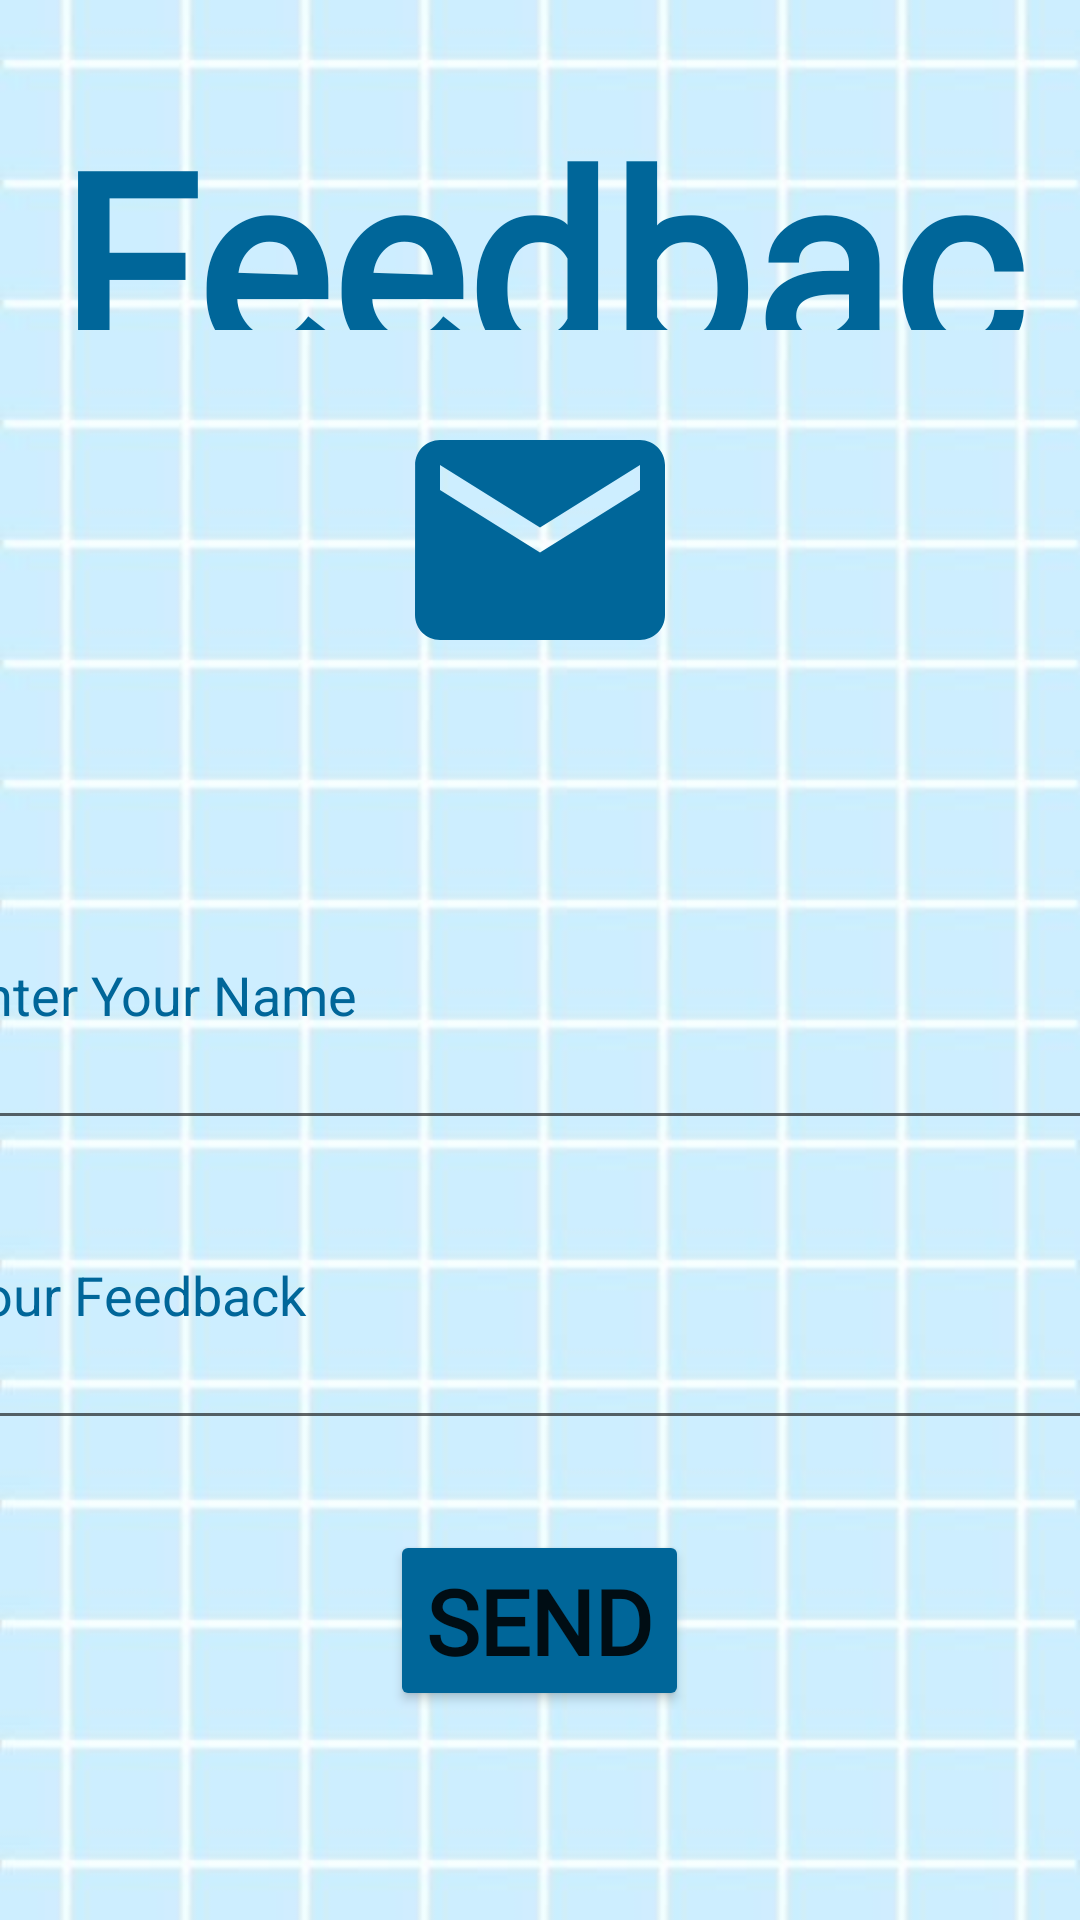

Point at icon controls on the screen. Image size 1080 × 1920, points as (x,y).
email: (540,540)
